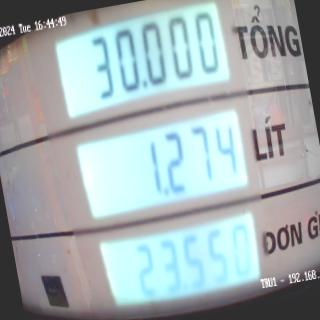screen: (46, 0, 273, 320)
